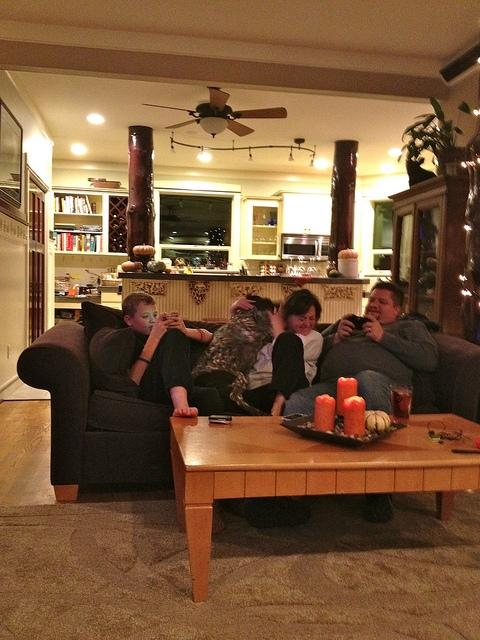pumpkin: (364, 411, 390, 432), (132, 243, 156, 255), (147, 260, 167, 274), (338, 248, 360, 259), (122, 261, 134, 272), (328, 269, 340, 278), (165, 268, 172, 273)
